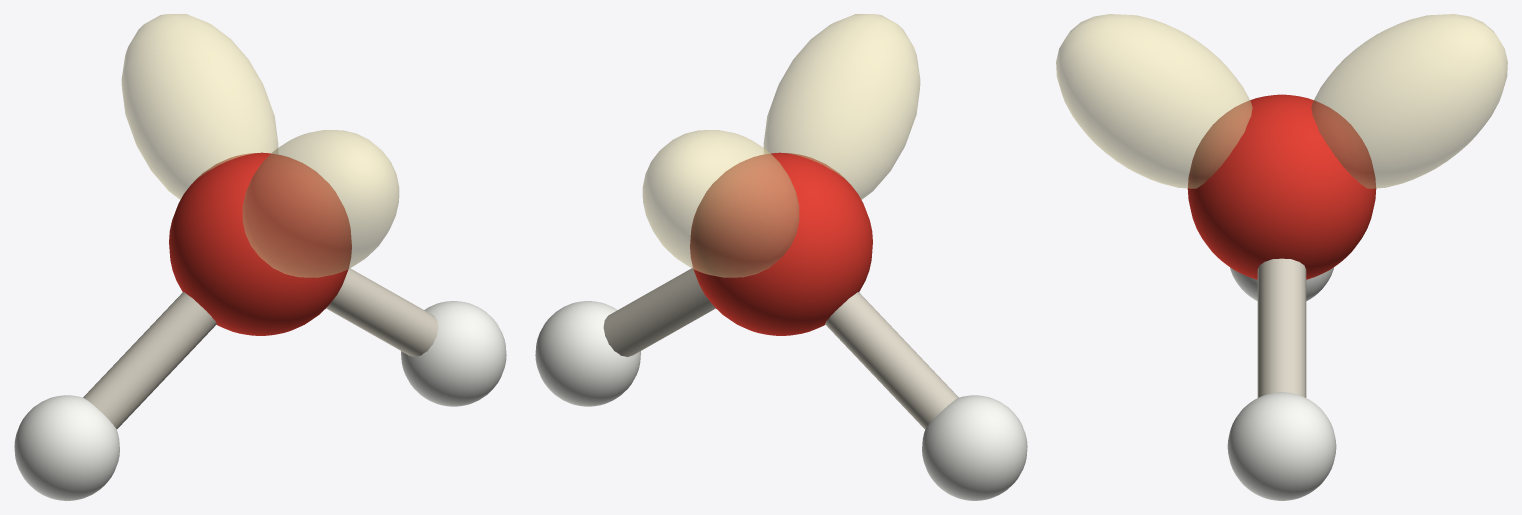
The picture shows the model from 3 angles, left to right: view 1: azimuth 30°, elevation 25°; view 2: azimuth 150°, elevation 25°; view 3: azimuth 270°, elevation 25°; orthographic projection. The views are drawn at different scales.
Parts seen in each view (by area): view 1: lone_pair (×2), O_0, H_2, H_1, bond_1, bond_0; view 2: lone_pair (×2), O_0, H_2, H_1, bond_1, bond_0; view 3: lone_pair (×2), O_0, H_1, bond_0, H_2.
Part boxes in pixels (left/top/right/bottom): lone_pair (×2): left=121, top=14, right=399, bottom=277; O_0: left=169, top=152, right=351, bottom=335; H_2: left=14, top=395, right=119, bottom=500; H_1: left=401, top=301, right=506, bottom=406; bond_1: left=83, top=292, right=216, bottom=429; bond_0: left=326, top=268, right=438, bottom=356; lone_pair (×2): left=642, top=14, right=920, bottom=277; O_0: left=690, top=152, right=872, bottom=335; H_2: left=922, top=395, right=1027, bottom=500; H_1: left=535, top=301, right=640, bottom=406; bond_1: left=825, top=292, right=958, bottom=429; bond_0: left=603, top=268, right=715, bottom=356; lone_pair (×2): left=1056, top=14, right=1507, bottom=188; O_0: left=1187, top=94, right=1376, bottom=279; H_1: left=1227, top=392, right=1336, bottom=500; bond_0: left=1257, top=258, right=1306, bottom=397; H_2: left=1230, top=267, right=1333, bottom=300.
Bounding box in the file's own units: 0.4695 × 0.3467 × 0.3739.
